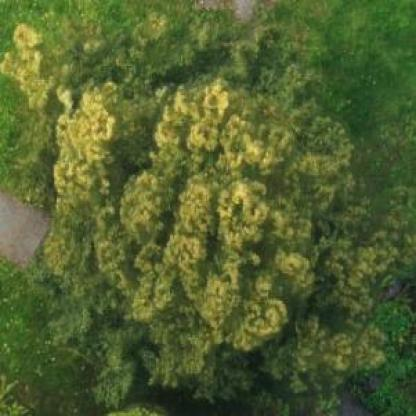Deciduous Tree: (25, 49, 351, 353)
